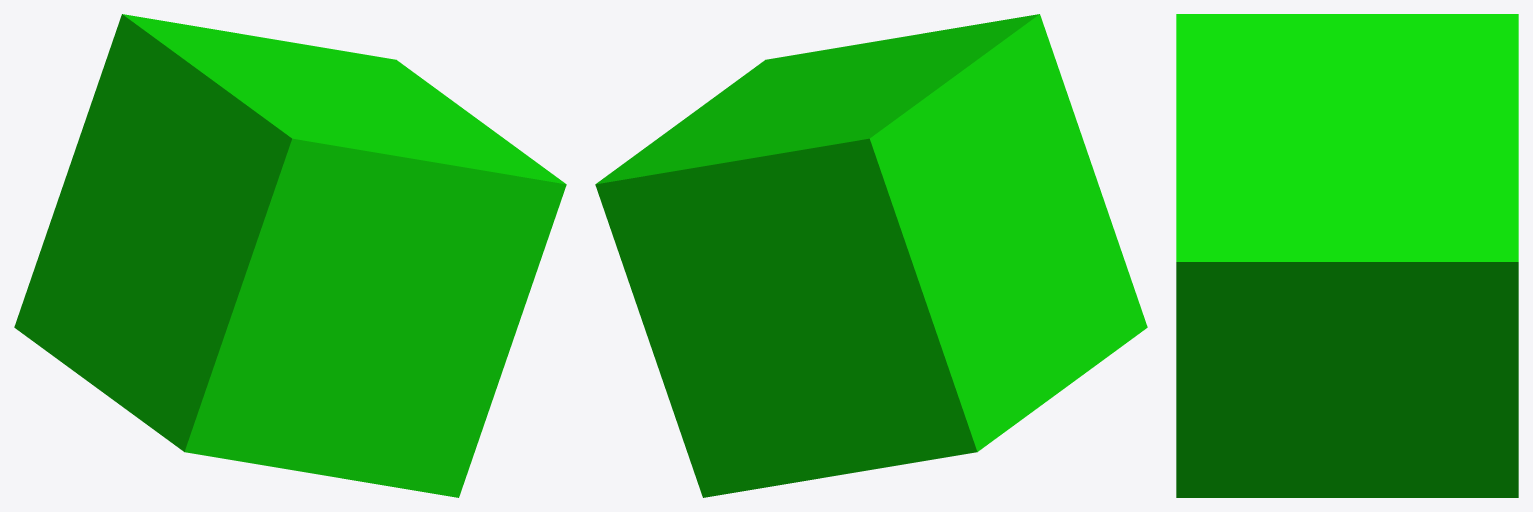
Rendered from SlimeCubeIcon.fbx.
3 renders of one model, left to right at view 1: azimuth 30°, elevation 25°; view 2: azimuth 150°, elevation 25°; view 3: azimuth 270°, elevation 25°, orthographic.
Visible parts, largest first — view 1: Cube.004; view 2: Cube.004; view 3: Cube.004.
Part boxes in pixels (bbox=[...]): Cube.004: bbox=[14, 14, 566, 497]; Cube.004: bbox=[595, 14, 1147, 497]; Cube.004: bbox=[1176, 14, 1518, 497].
Bounding box in the file's own units: 259 × 259 × 200.
